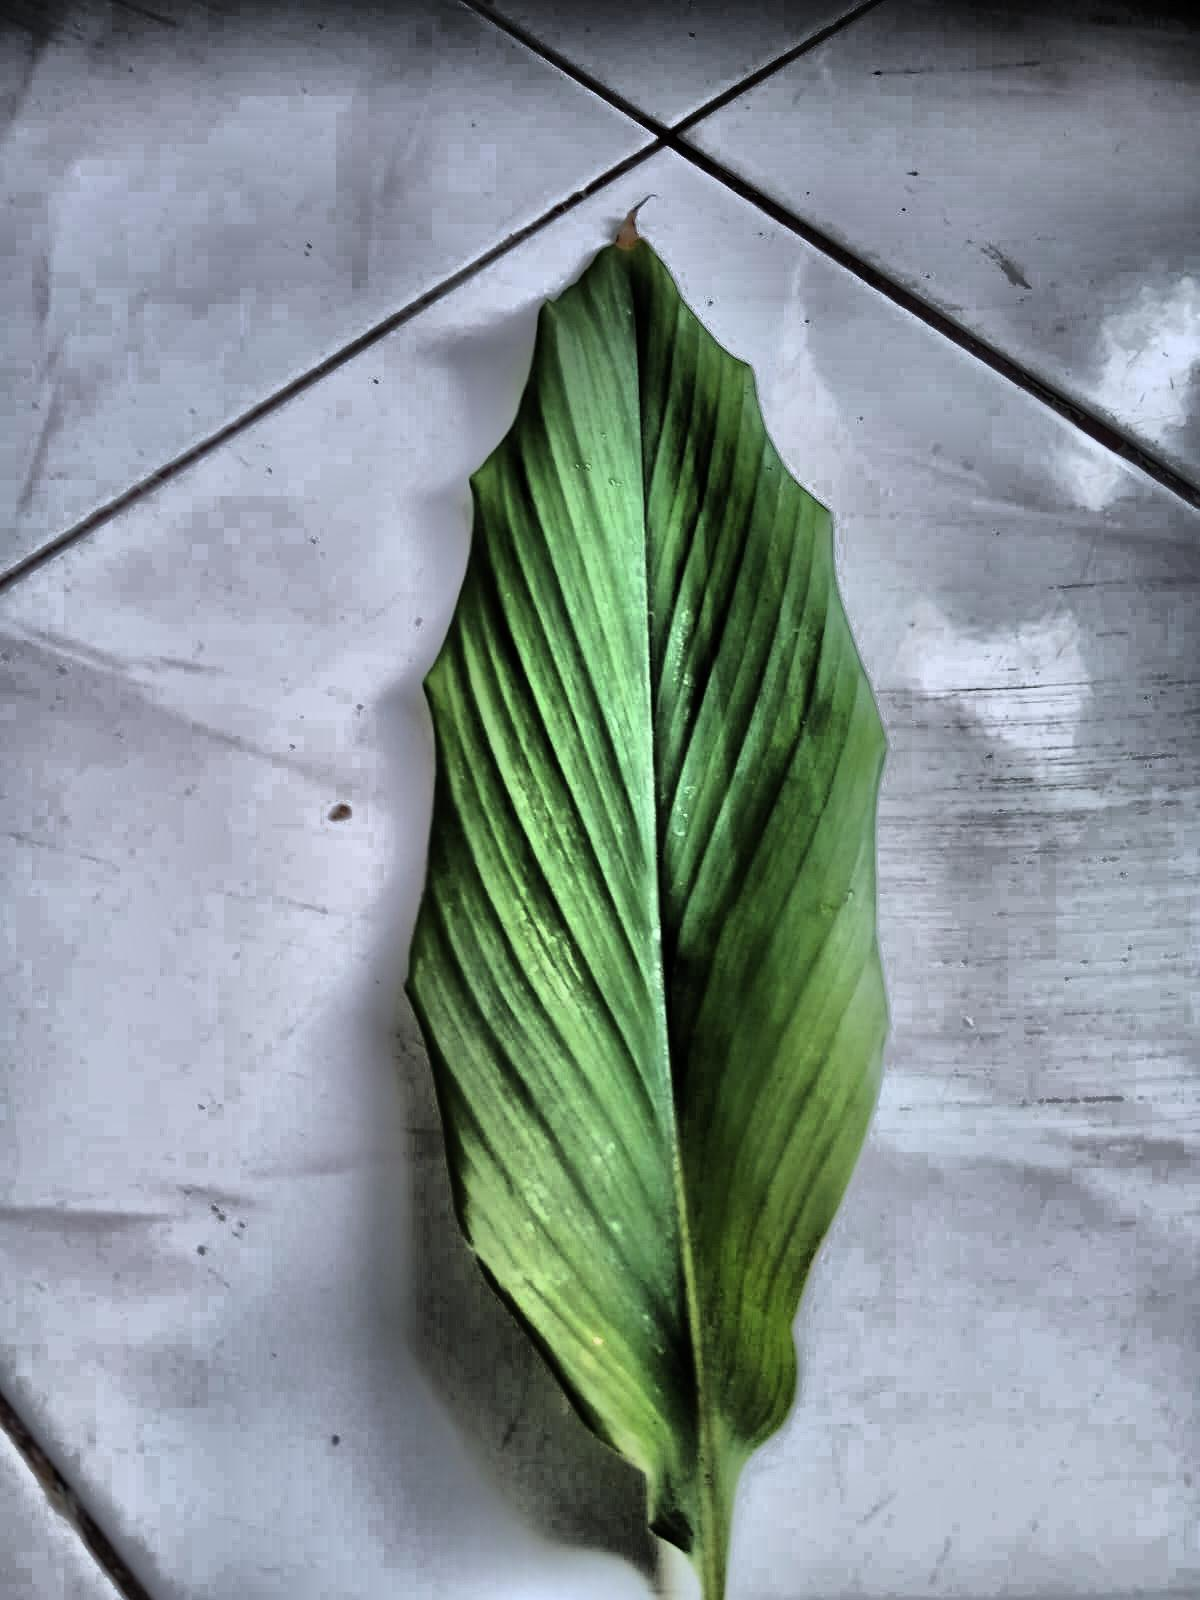daun kunyit: (407, 219, 887, 1599)
